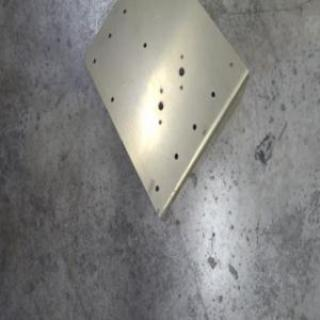MetalSheettrack_idkeyframe: (81, 0, 252, 222)
